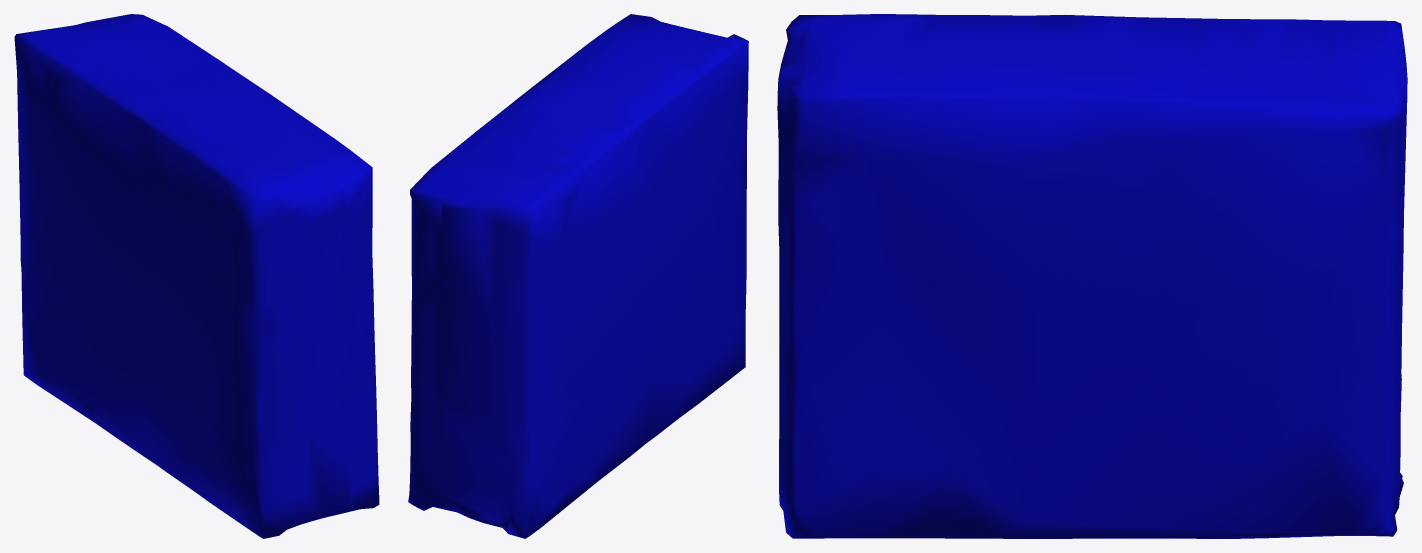
The model's file is 08194_sparse_textured_ok.obj.
3 views of the same model, side by side, from view 1: azimuth 30°, elevation 25°; view 2: azimuth 150°, elevation 25°; view 3: azimuth 270°, elevation 25° (orthographic). The views are drawn at different scales.
Visible parts, largest first — view 1: textured_ok; view 2: textured_ok; view 3: textured_ok.
Boxes of the visible parts, <box> form: textured_ok: <box>14,14,379,538</box>; textured_ok: <box>408,14,748,538</box>; textured_ok: <box>777,14,1407,538</box>.
Bounding box in the file's own units: 0.0382 × 0.0904 × 0.1126.
